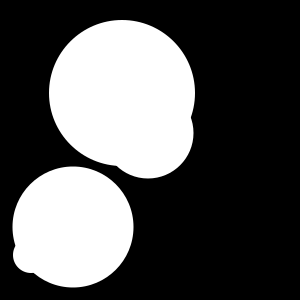rectangle: (49, 20, 195, 166), (13, 167, 134, 288), (102, 88, 194, 178), (13, 237, 49, 273)
